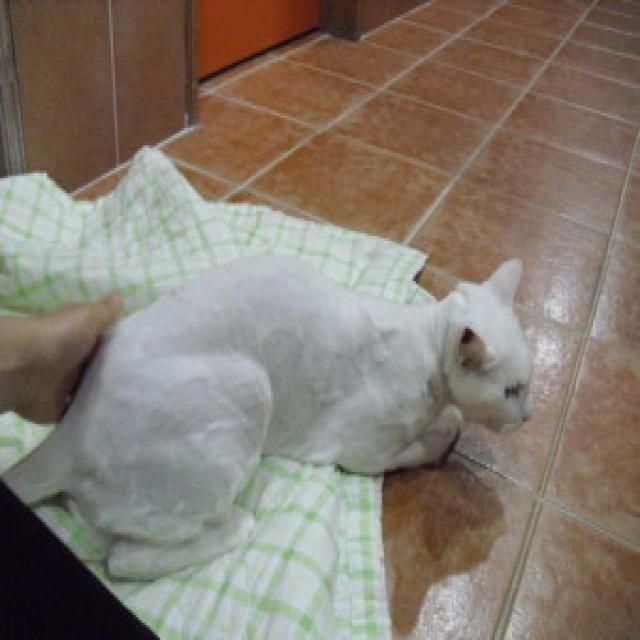cat: (0, 252, 536, 584)
